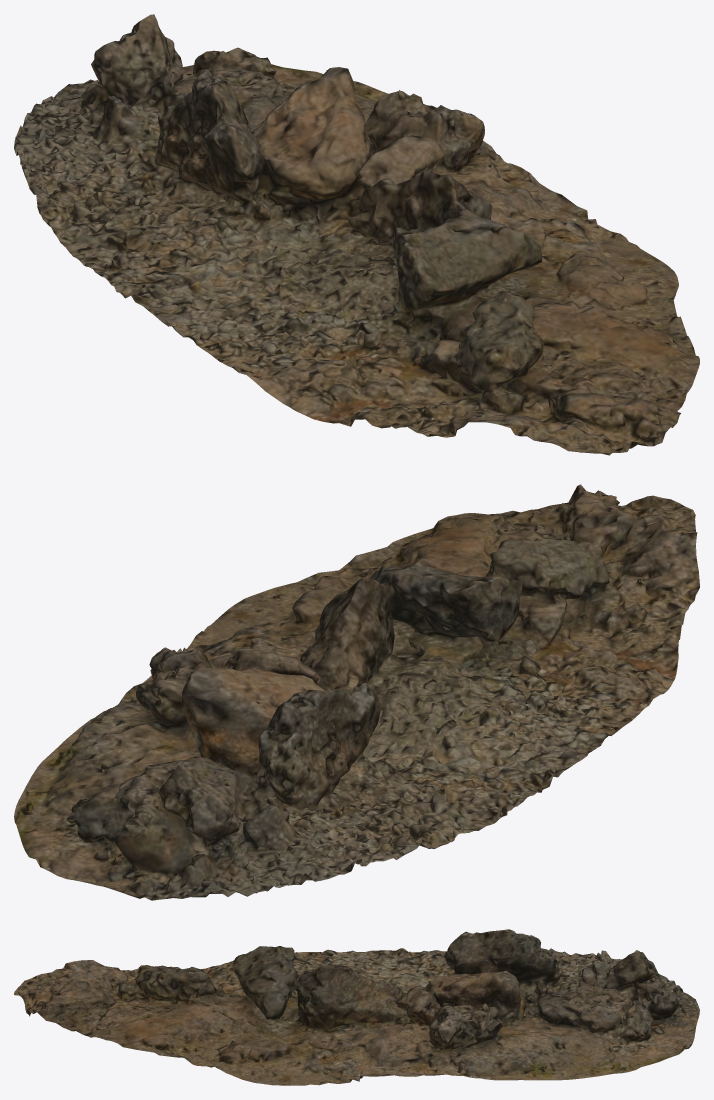
File: coast_land_rocks_02.glb
3 views of the same model, one above another, from view 1: azimuth 30°, elevation 25°; view 2: azimuth 150°, elevation 25°; view 3: azimuth 270°, elevation 25° (orthographic). The views are drawn at different scales.
Parts seen in each view (by area): view 1: coast_land_rocks_02; view 2: coast_land_rocks_02; view 3: coast_land_rocks_02.
Boxes of the visible parts, x1,y1,x2,y2 form: coast_land_rocks_02: [14, 14, 699, 455]; coast_land_rocks_02: [14, 484, 699, 900]; coast_land_rocks_02: [14, 929, 699, 1085].
Size of the model in its own units: 4.89 by 1.37 by 10.45.
1 material, 1 textured.
